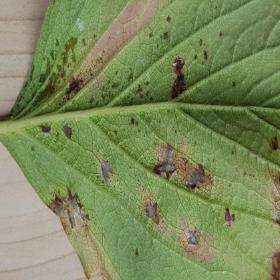Angular Leafspot: (2, 0, 279, 279)
